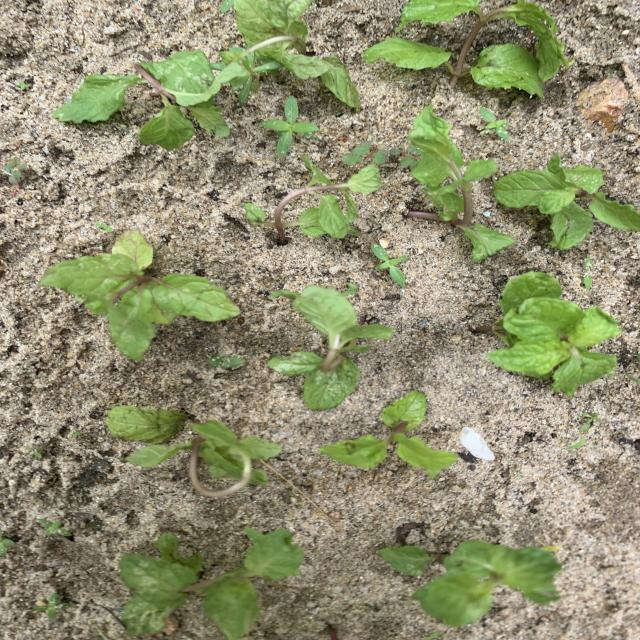crop: (41, 231, 239, 359), (120, 528, 303, 639), (365, 1, 570, 96), (476, 272, 618, 394), (53, 50, 228, 148), (408, 104, 513, 259), (268, 285, 394, 409), (107, 408, 281, 496), (493, 153, 639, 248), (234, 1, 358, 106), (412, 540, 561, 627), (321, 391, 458, 477), (245, 156, 380, 242), (379, 546, 433, 576)
weed: (210, 47, 280, 103), (262, 97, 318, 155), (372, 244, 407, 285), (342, 142, 389, 164), (34, 592, 71, 618), (479, 108, 508, 139), (390, 145, 418, 167), (38, 518, 71, 536), (4, 157, 27, 180), (207, 356, 244, 369), (581, 412, 599, 431), (1, 532, 15, 555), (583, 256, 591, 289), (97, 222, 112, 232), (28, 448, 43, 458), (568, 439, 584, 448), (424, 631, 442, 639), (345, 283, 356, 295), (221, 1, 234, 11), (18, 81, 30, 89), (71, 431, 79, 437)
